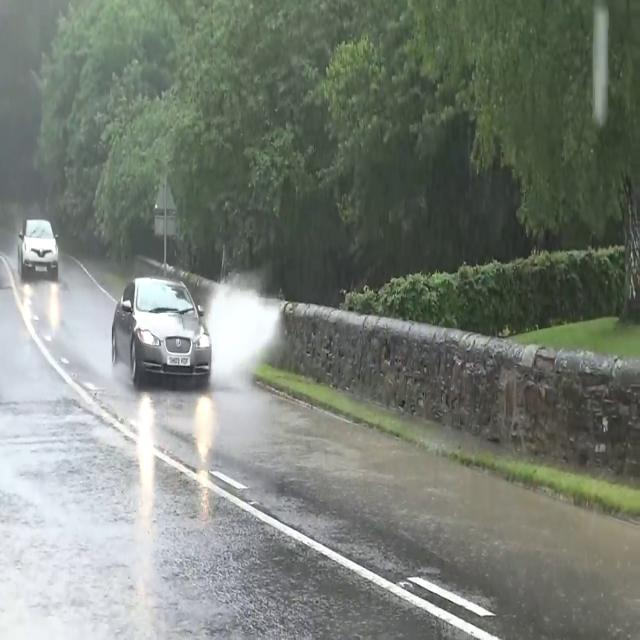license-plate-annotation: (164, 348, 193, 368)
